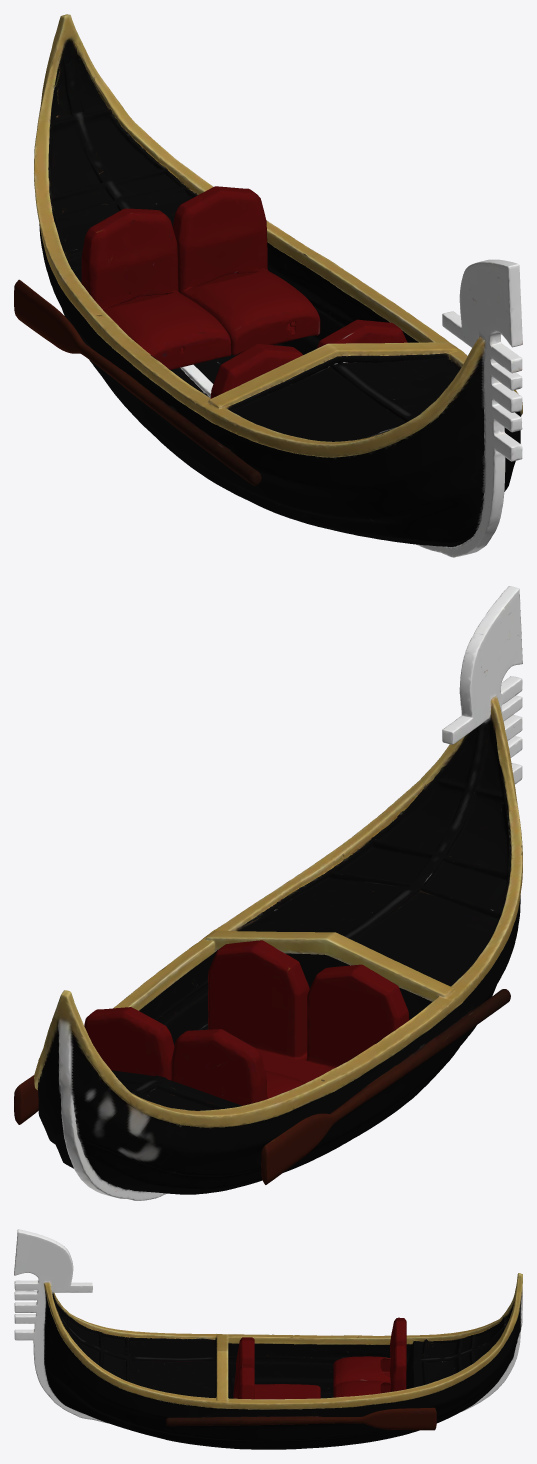
The model's file is gondola-hero.glb.
The picture shows the model from 3 angles, top to bottom: view 1: azimuth 30°, elevation 25°; view 2: azimuth 150°, elevation 25°; view 3: azimuth 270°, elevation 25°; orthographic projection. The views are drawn at different scales.
Visible parts, largest first — view 1: world; view 2: world; view 3: world.
Boxes of the visible parts, <box> form: world: <box>14,14,522,557</box>; world: <box>14,586,522,1200</box>; world: <box>14,1229,522,1449</box>.
Size of the model in its own units: 0.3323 by 0.4422 by 1.
Materials: 1 (1 with a texture image).
